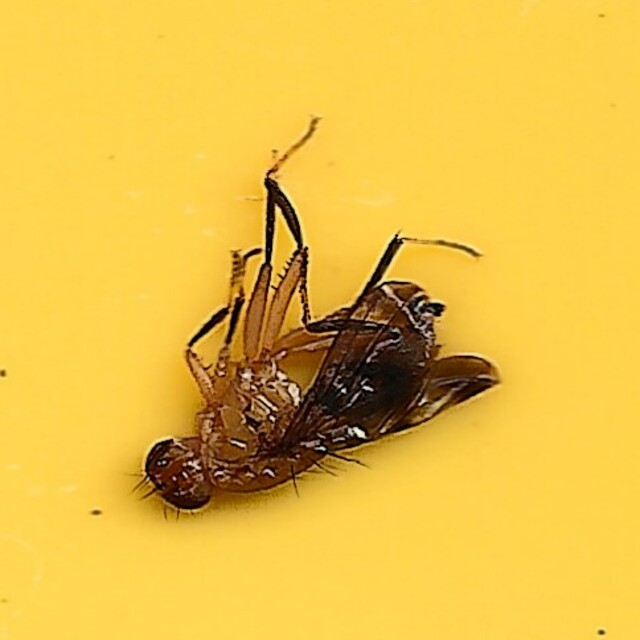Brachycera: (132, 119, 508, 521)
